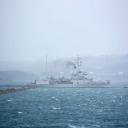Portanaves: (27, 53, 115, 91)
